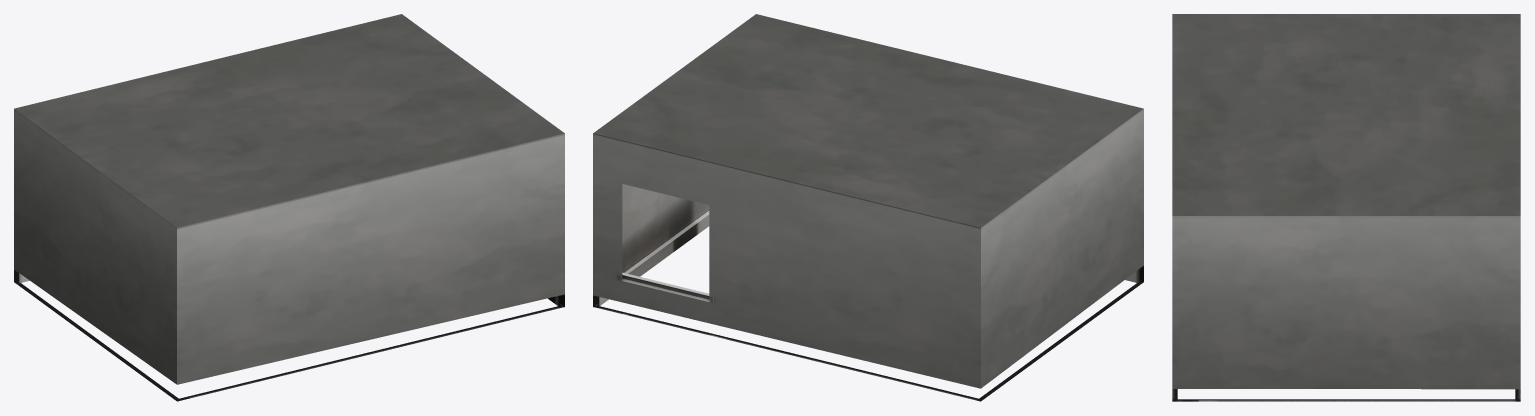
File: sciany.gltf
3 views of the same model, side by side, from view 1: azimuth 30°, elevation 25°; view 2: azimuth 150°, elevation 25°; view 3: azimuth 270°, elevation 25° (orthographic). The views are drawn at different scales.
Parts seen in each view (by area): view 1: sciany; view 2: sciany; view 3: sciany.
Part boxes in pixels (x1,y1,x2,y2): sciany: (14,14,564,401); sciany: (593,14,1143,401); sciany: (1172,14,1520,401).
Bounding box in the file's own units: 9 × 3.86 × 6.56.
Materials: 7 (5 with a texture image).
